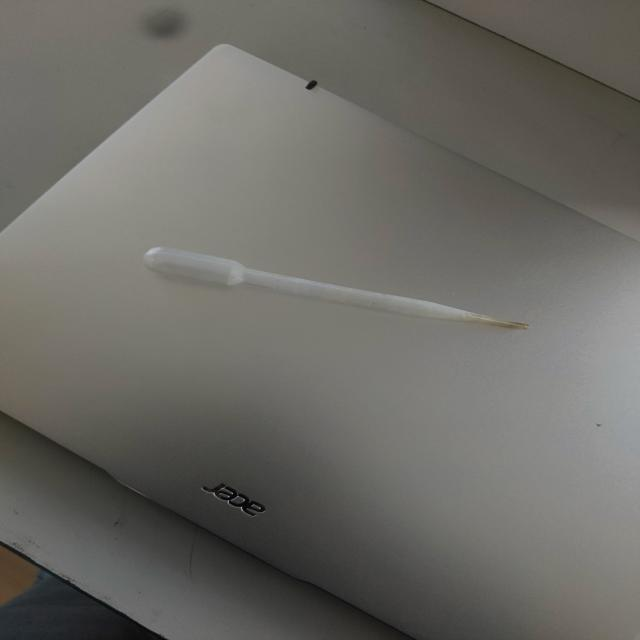Pipette: (126, 223, 560, 358)
